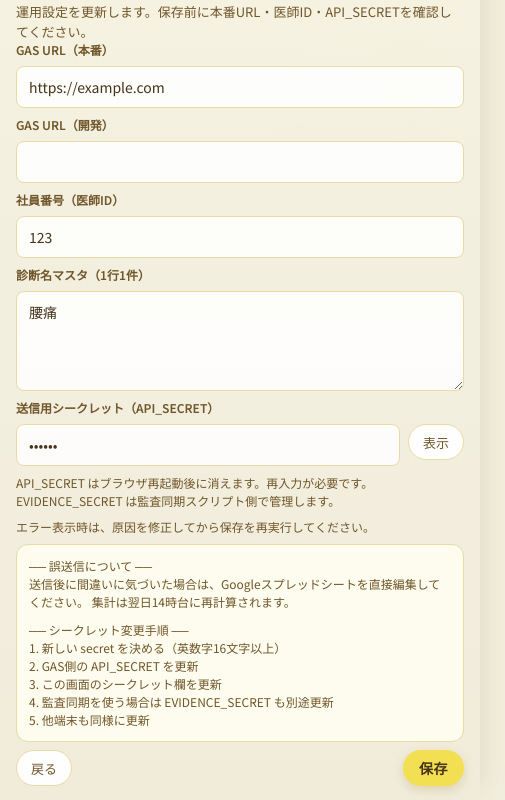
it: SettingsScreen › URLが許可ドメイン外の場合は保存しない
(page scrolled)
Click the button "保存".
click(433, 768)  # box left=403, top=750, right=464, bottom=786
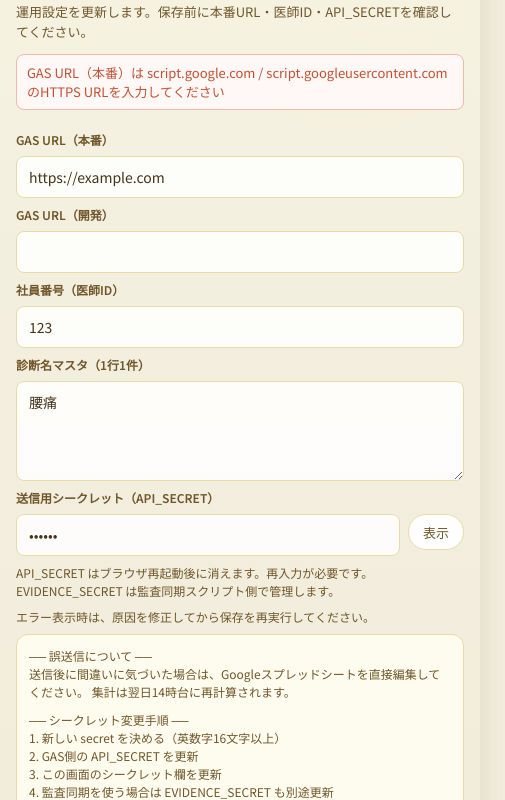
Expected: the text "GAS URL（本番）は script.google.com / script.googleusercontent.com のHTTPS URLを入力してください" is shown, left=27, top=63, right=448, bottom=101
